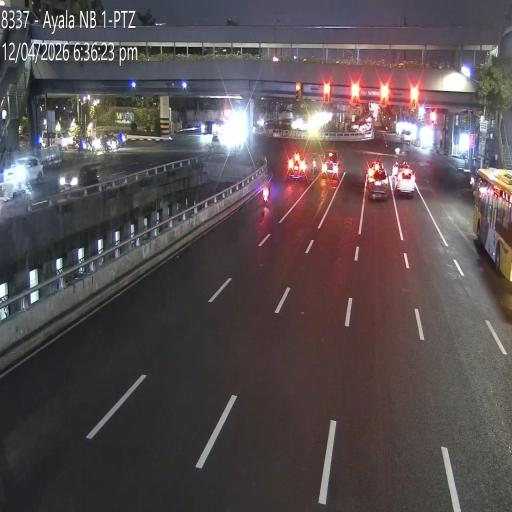Car: (3, 156, 45, 191), (445, 154, 472, 188), (58, 169, 99, 191), (368, 166, 388, 203), (395, 166, 416, 198), (40, 132, 70, 150), (287, 151, 306, 178), (323, 149, 338, 178), (199, 118, 214, 134), (366, 160, 384, 173), (401, 130, 412, 146), (37, 132, 47, 148), (108, 133, 118, 146)
Motor: (263, 173, 272, 209), (79, 137, 87, 153), (311, 152, 317, 173), (119, 132, 127, 147), (393, 158, 399, 178)
Not Accident: (365, 156, 390, 203), (392, 153, 417, 197)
